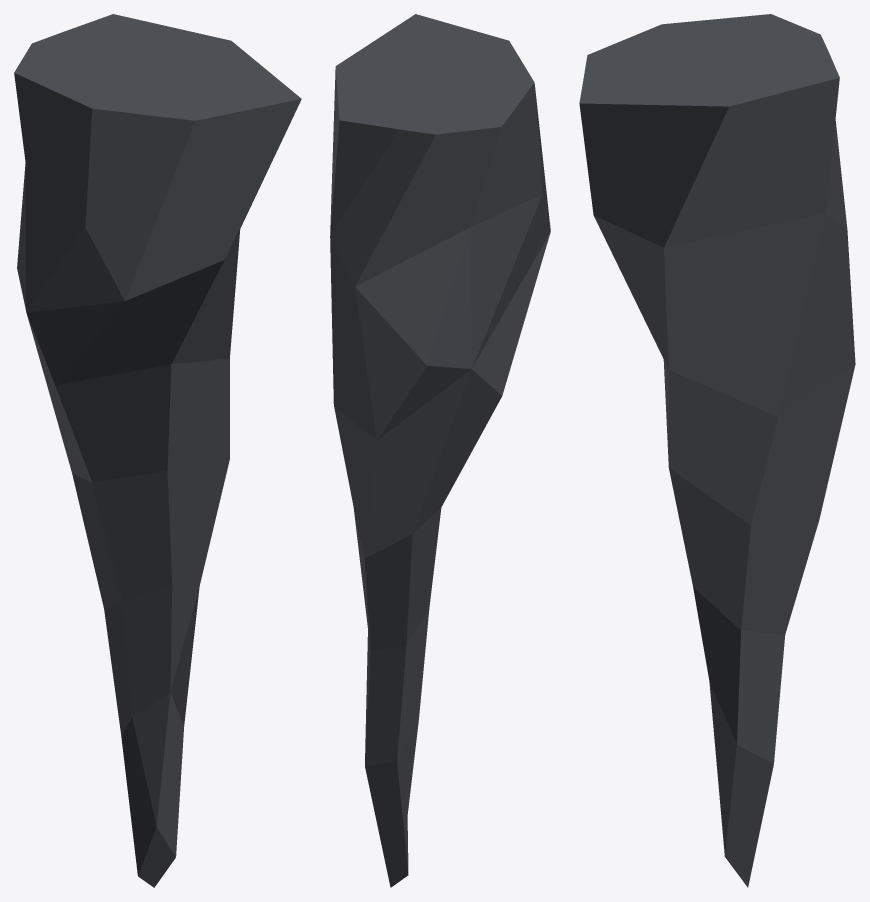
File: Stalagtite_Tall.fbx
3 renders of one model, left to right at view 1: azimuth 30°, elevation 25°; view 2: azimuth 150°, elevation 25°; view 3: azimuth 270°, elevation 25°, orthographic. The views are drawn at different scales.
Visible parts, largest first — view 1: Stalagtite_Tall; view 2: Stalagtite_Tall; view 3: Stalagtite_Tall.
Part boxes in pixels (left/top/right/bottom): Stalagtite_Tall: left=14, top=14, right=301, bottom=887; Stalagtite_Tall: left=330, top=14, right=550, bottom=887; Stalagtite_Tall: left=579, top=14, right=855, bottom=887.
Bounding box in the file's own units: 54.13 × 221 × 68.15.
